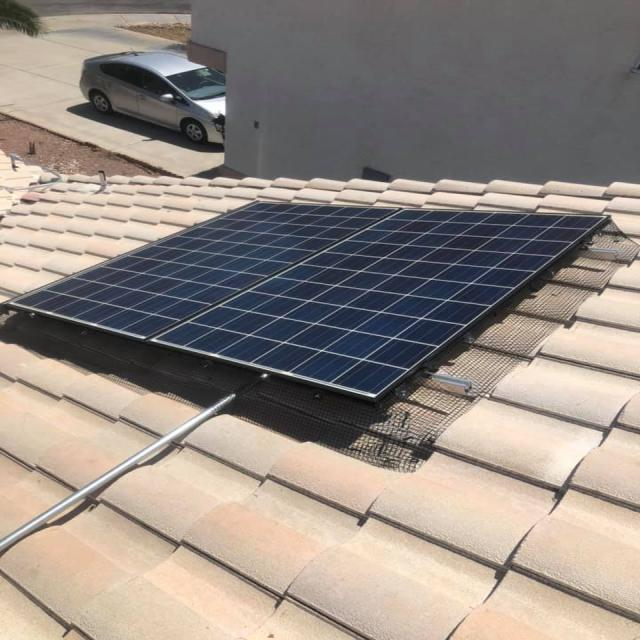clean-solar-panel: (401, 262, 450, 278)
